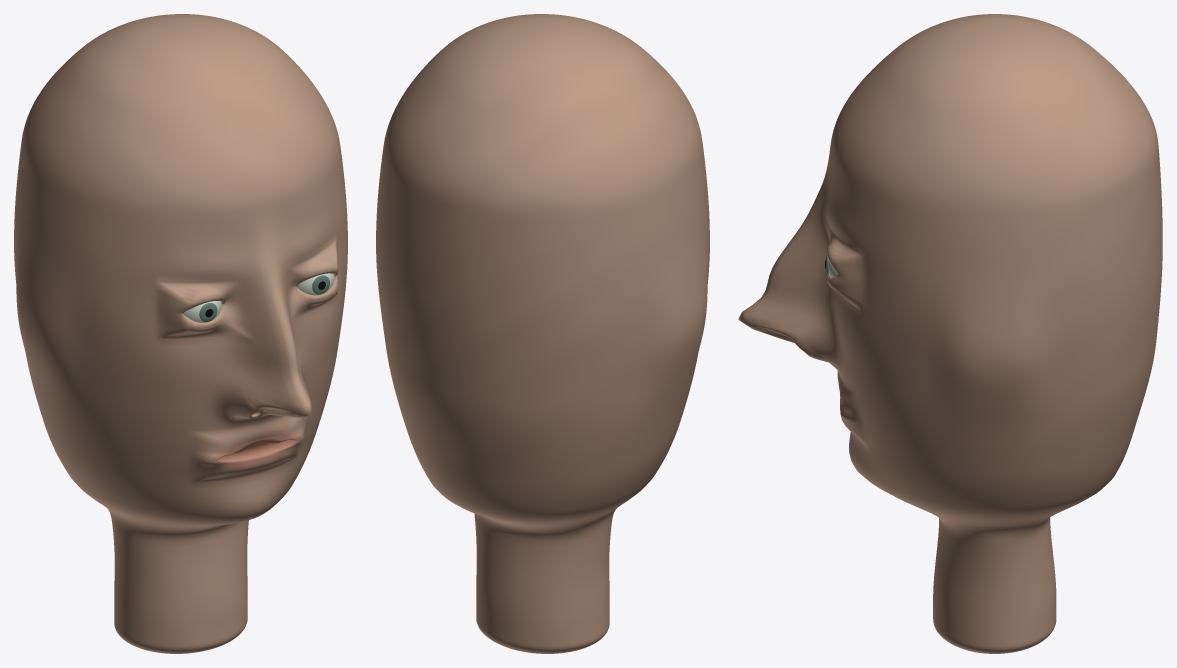
The model's file is head.glb.
3 renders of one model, left to right at view 1: azimuth 30°, elevation 25°; view 2: azimuth 150°, elevation 25°; view 3: azimuth 270°, elevation 25°, orthographic.
Parts seen in each view (by area): view 1: ProceduralHead; view 2: ProceduralHead; view 3: ProceduralHead.
Boxes of the visible parts, bbox=[...] form: ProceduralHead: bbox=[14, 14, 347, 653]; ProceduralHead: bbox=[376, 14, 709, 653]; ProceduralHead: bbox=[738, 14, 1162, 653].
Size of the model in its own units: 0.163 by 0.315 by 0.1996.
